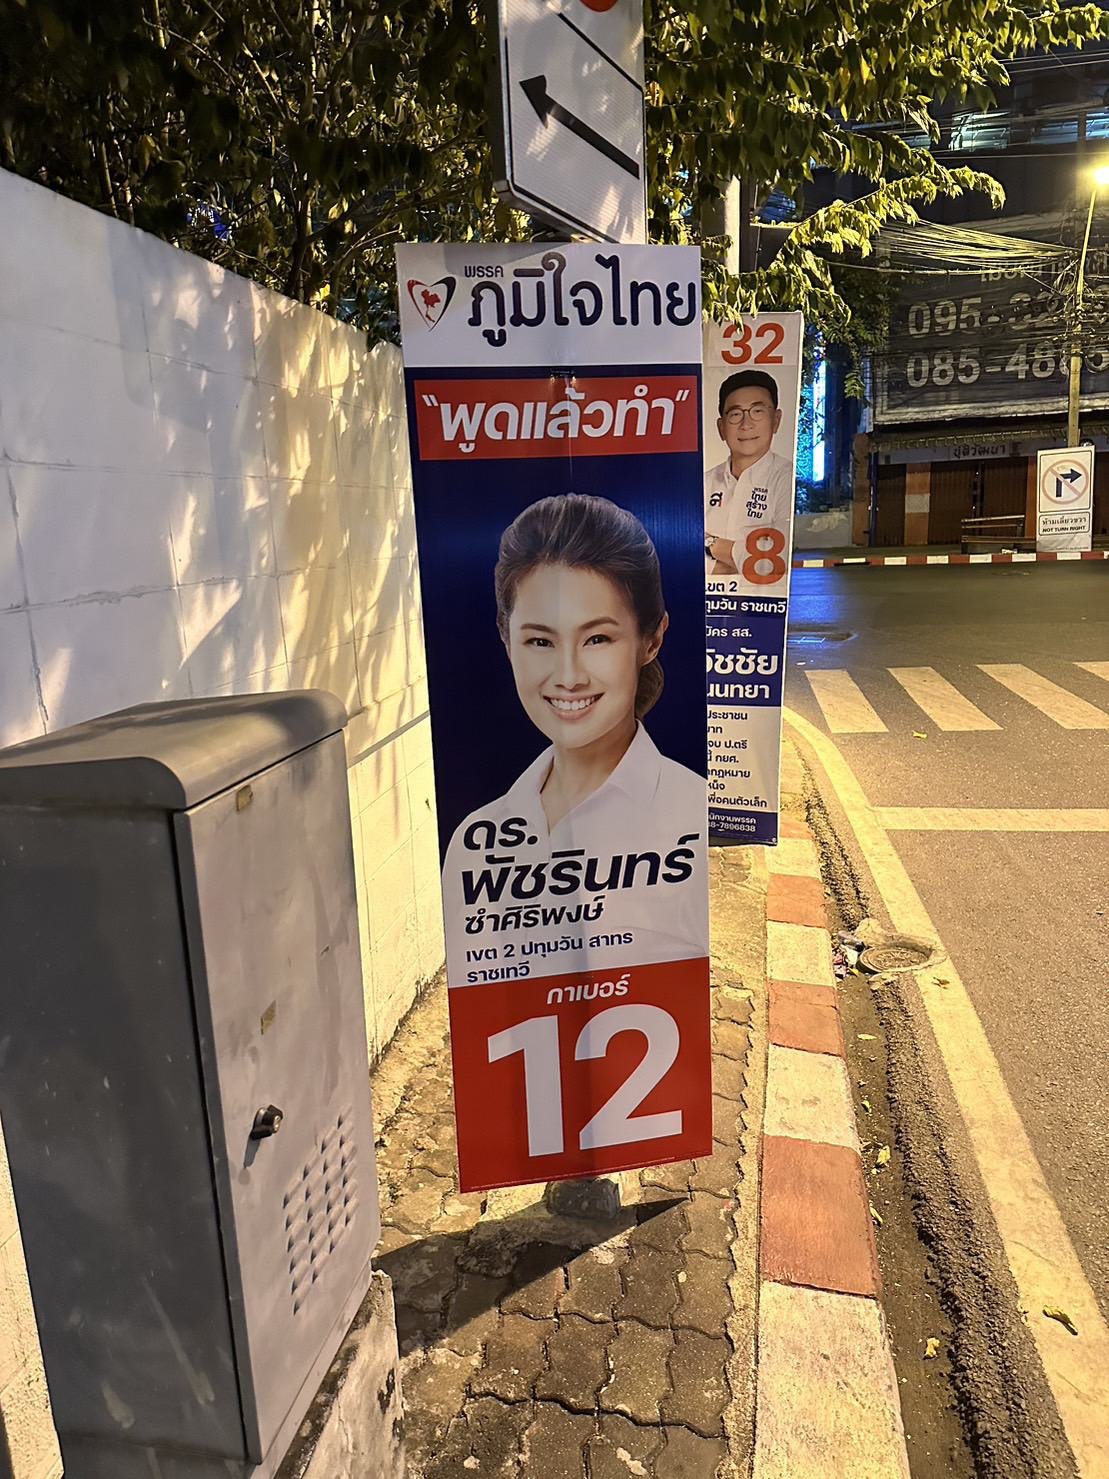Banner: (393, 239, 713, 1165), (700, 313, 797, 843)
